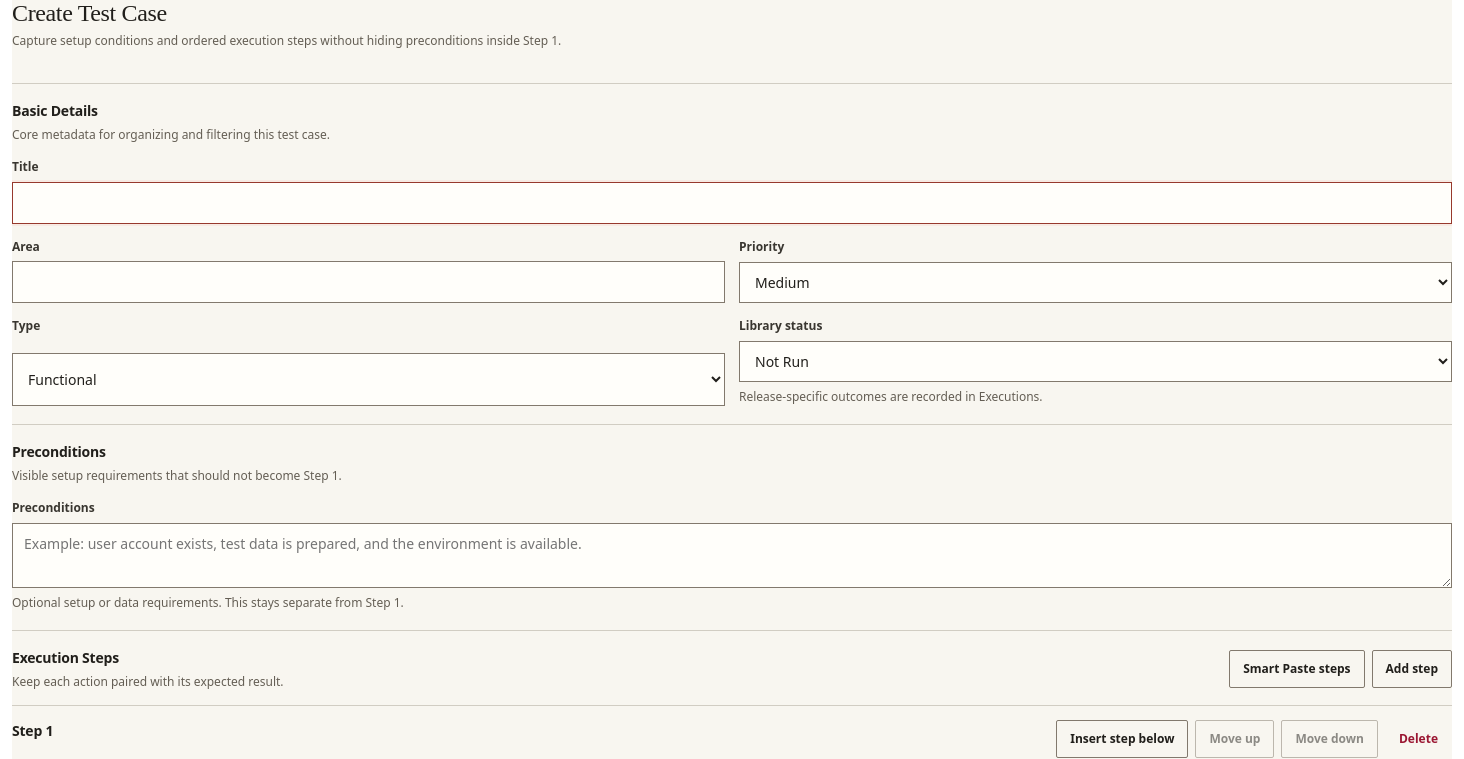
Test: TestCaseForm › opens Smart Paste from the Execution Steps section
This screenshot has width=1464, height=759.
Click the button "Smart Paste steps": [1297, 669] box [1229, 650, 1364, 688]
(page scrolled)
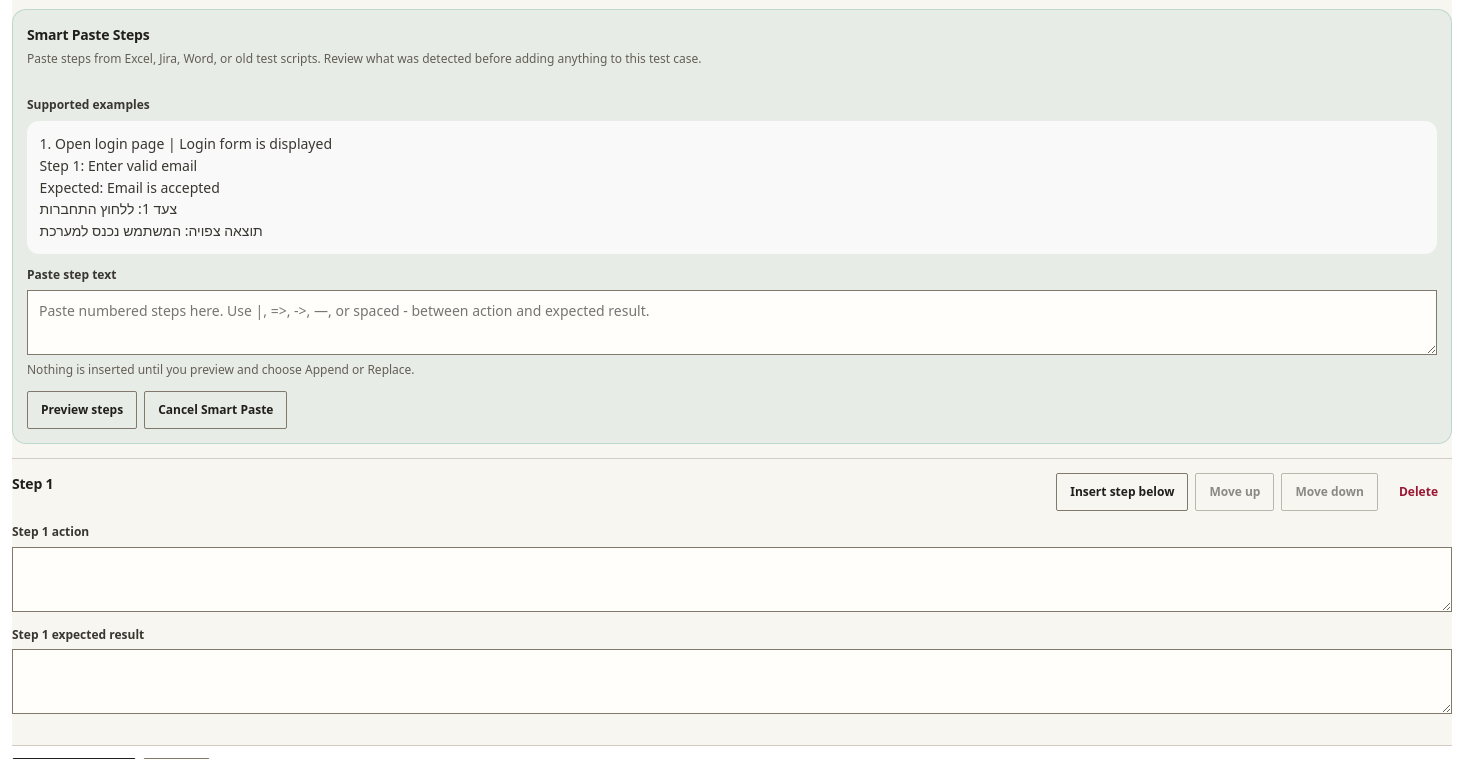
Check: the text "Supported examples" is shown, box [27, 96, 150, 113]
Check: the text box labelled "Paste step text" is shown, box [27, 290, 1437, 355]
Check: the button "Preview steps" is shown, box [27, 391, 137, 429]
